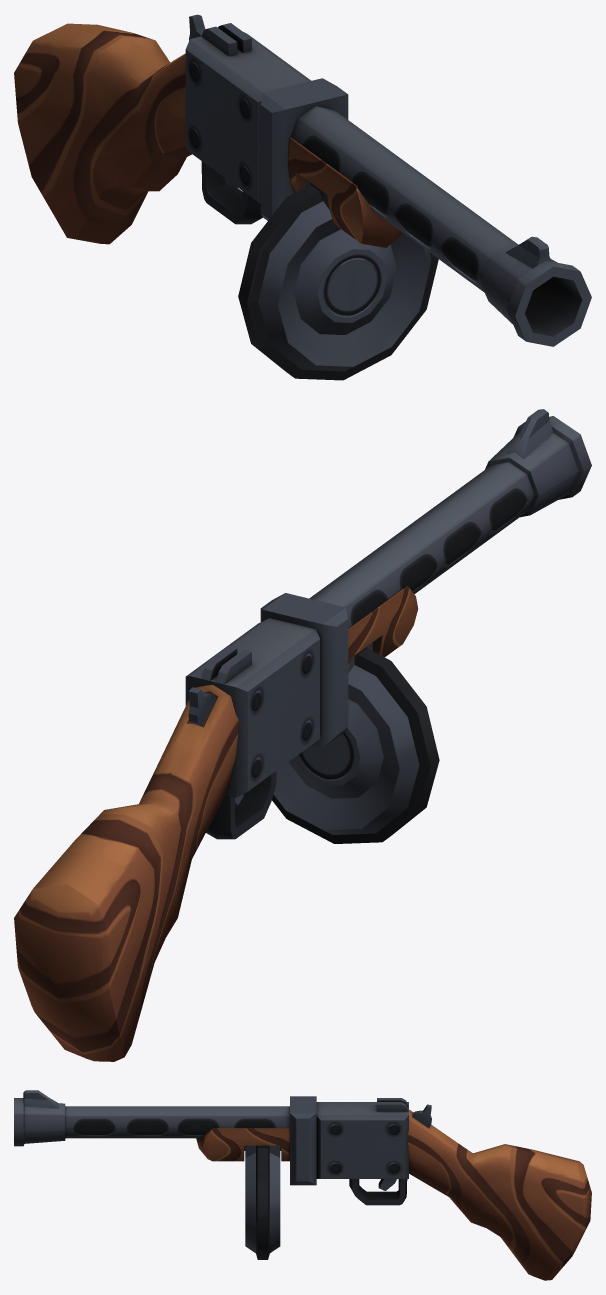
Rendered from gun_e03.FBX.
3 renders of one model, top to bottom at view 1: azimuth 30°, elevation 25°; view 2: azimuth 150°, elevation 25°; view 3: azimuth 270°, elevation 25°, orthographic. The views are drawn at different scales.
Visible parts, largest first — view 1: gun_e03_02, gun_e03_01; view 2: gun_e03_02, gun_e03_01; view 3: gun_e03_02, gun_e03_01.
Part boxes in pixels (x1,y1,x2,y2): gun_e03_02: (14,14,591,346); gun_e03_01: (238,179,438,380); gun_e03_02: (14,409,591,1061); gun_e03_01: (272,642,439,843); gun_e03_02: (14,1090,591,1280); gun_e03_01: (245,1145,280,1259).
Size of the model in its own units: 24.53 by 110 by 39.31.
